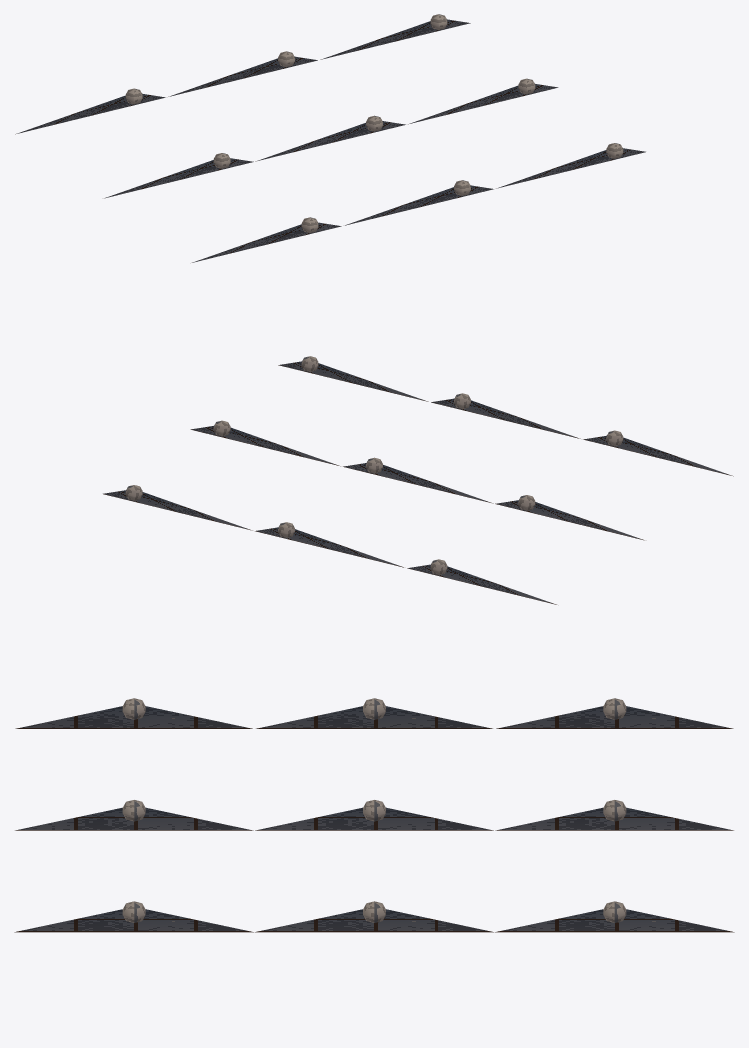
File: dgn.ceiling__groin_3x3.glb
The picture shows the model from 3 angles, top to bottom: view 1: azimuth 30°, elevation 25°; view 2: azimuth 150°, elevation 25°; view 3: azimuth 270°, elevation 25°; orthographic projection. The views are drawn at different scales.
Parts seen in each view (by area): view 1: kit_shell_groin, kit_boss; view 2: kit_shell_groin, kit_boss; view 3: kit_shell_groin, kit_boss.
Part boxes in pixels (x1=…): kit_shell_groin: x1=15, y1=19, x2=645, y2=262; kit_boss: x1=125, y1=14, x2=623, y2=232; kit_shell_groin: x1=103, y1=361, x2=733, y2=604; kit_boss: x1=125, y1=356, x2=623, y2=574; kit_shell_groin: x1=14, y1=706, x2=734, y2=932; kit_boss: x1=122, y1=698, x2=626, y2=922.
Bounding box in the file's own units: 12 × 1.48 × 12.
2 materials, 2 textured.
